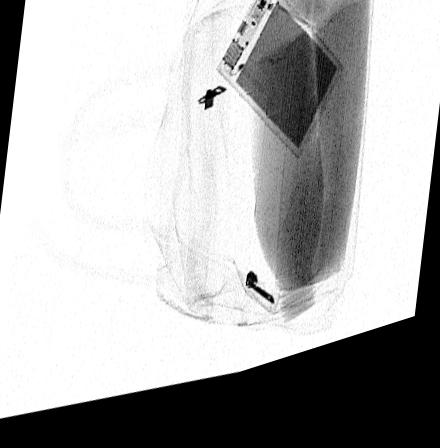Powerbank: (212, 0, 344, 178)
